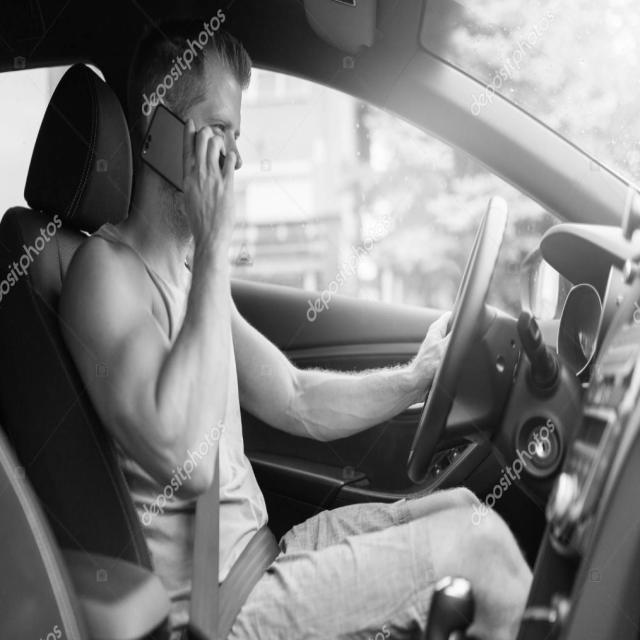Phone: (130, 88, 245, 214)
